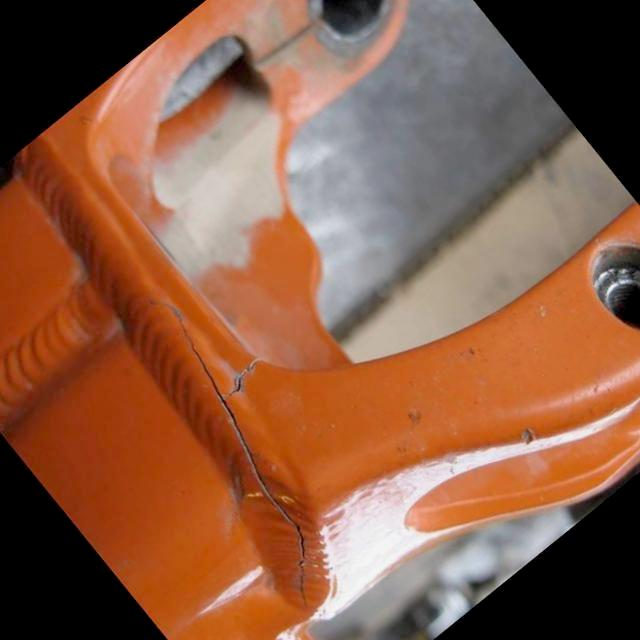defect: (146, 296, 325, 615)
